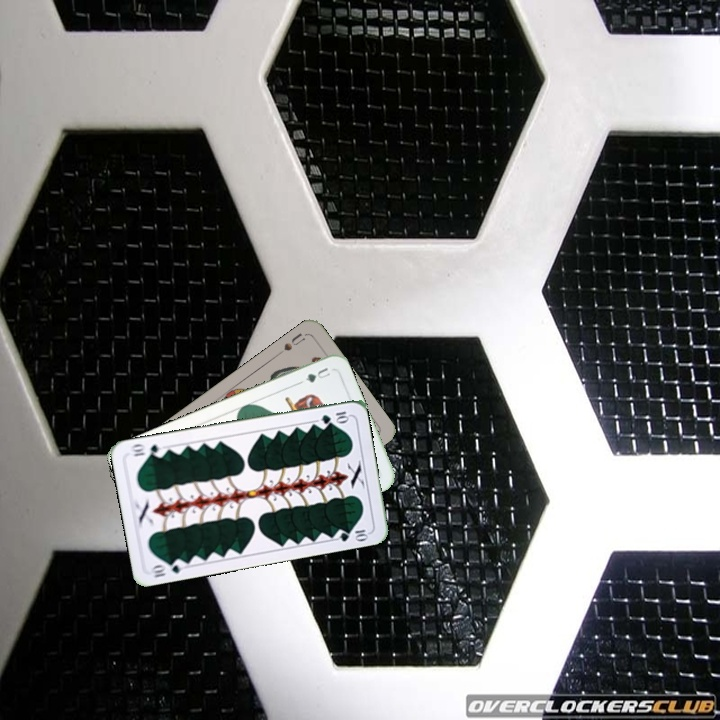G10: (146, 555, 186, 580), (317, 407, 352, 426)
GU: (301, 363, 333, 385)
SU: (274, 329, 308, 358)
